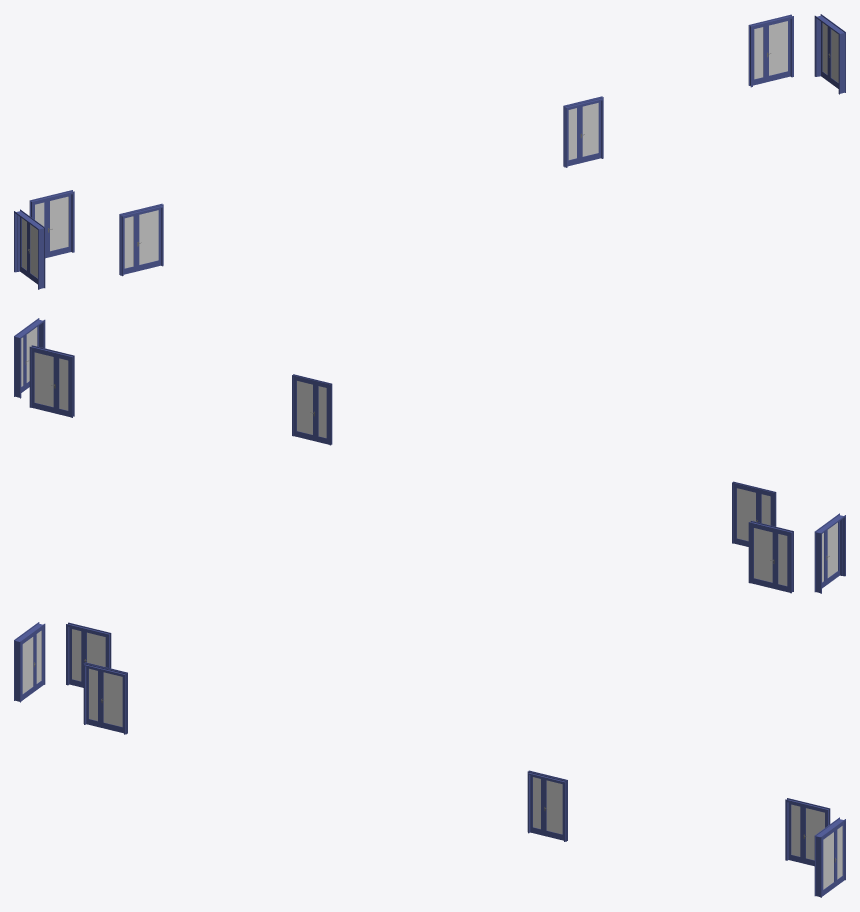
The model's file is CW_Doors.fbx.
The picture shows the model from 3 angles, top to bottom: view 1: azimuth 30°, elevation 25°; view 2: azimuth 150°, elevation 25°; view 3: azimuth 330°, elevation 25°; orthographic projection.
Visible parts, largest first — view 1: RD_BigWindow.003, RD_BigWindow.001, RD_BigWindow.002, RD_BigWindow.004, HD_Corpus_01.001, HD_Corpus_01.002, RD_BigFrame.003, RD_DoorBigFrame.001, RD_BigFrame.004; view 2: RD_BigWindow.002, RD_BigWindow.001, RD_BigWindow.003, RD_BigWindow.004, HD_Corpus_01.001, RD_BigFrame.002, RD_DoorBigFrame.001, RD_SmallFrame.001, RD_SmallFrame.004, HD_BigWindow.001, HD_Corpus_01.002; view 3: RD_BigWindow.003, RD_BigWindow.004, RD_BigWindow.002, HD_BigWindow.001, RD_BigWindow.001, HD_BigWindow.002.
Part boxes in pixels (box(x1,y1,x2,y2)): RD_BigWindow.003: box(139, 210, 158, 264); RD_BigWindow.001: box(50, 196, 68, 251); RD_BigWindow.002: box(769, 21, 787, 75); RD_BigWindow.004: box(582, 103, 598, 156); HD_Corpus_01.001: box(15, 211, 43, 288); HD_Corpus_01.002: box(816, 15, 844, 93); RD_BigFrame.003: box(136, 208, 161, 271); RD_DoorBigFrame.001: box(47, 194, 71, 257); RD_BigFrame.004: box(580, 101, 601, 163); RD_BigWindow.002: box(34, 352, 53, 406); RD_BigWindow.001: box(754, 528, 772, 582); RD_BigWindow.003: box(737, 488, 755, 540); RD_BigWindow.004: box(297, 381, 312, 434); HD_Corpus_01.001: box(816, 515, 844, 592); RD_BigFrame.002: box(31, 349, 56, 413); RD_DoorBigFrame.001: box(751, 524, 775, 588); RD_SmallFrame.001: box(775, 530, 790, 592); RD_SmallFrame.004: box(315, 382, 329, 444); HD_BigWindow.001: box(827, 522, 837, 577); HD_Corpus_01.002: box(15, 319, 43, 397); RD_BigWindow.003: box(103, 672, 122, 726); RD_BigWindow.004: box(546, 780, 562, 834); RD_BigWindow.002: box(806, 808, 824, 860); HD_BigWindow.001: box(22, 637, 33, 693); RD_BigWindow.001: box(87, 632, 105, 666); HD_BigWindow.002: box(823, 832, 833, 889).
Size of the model in its own units: 2970 by 250 by 214.
